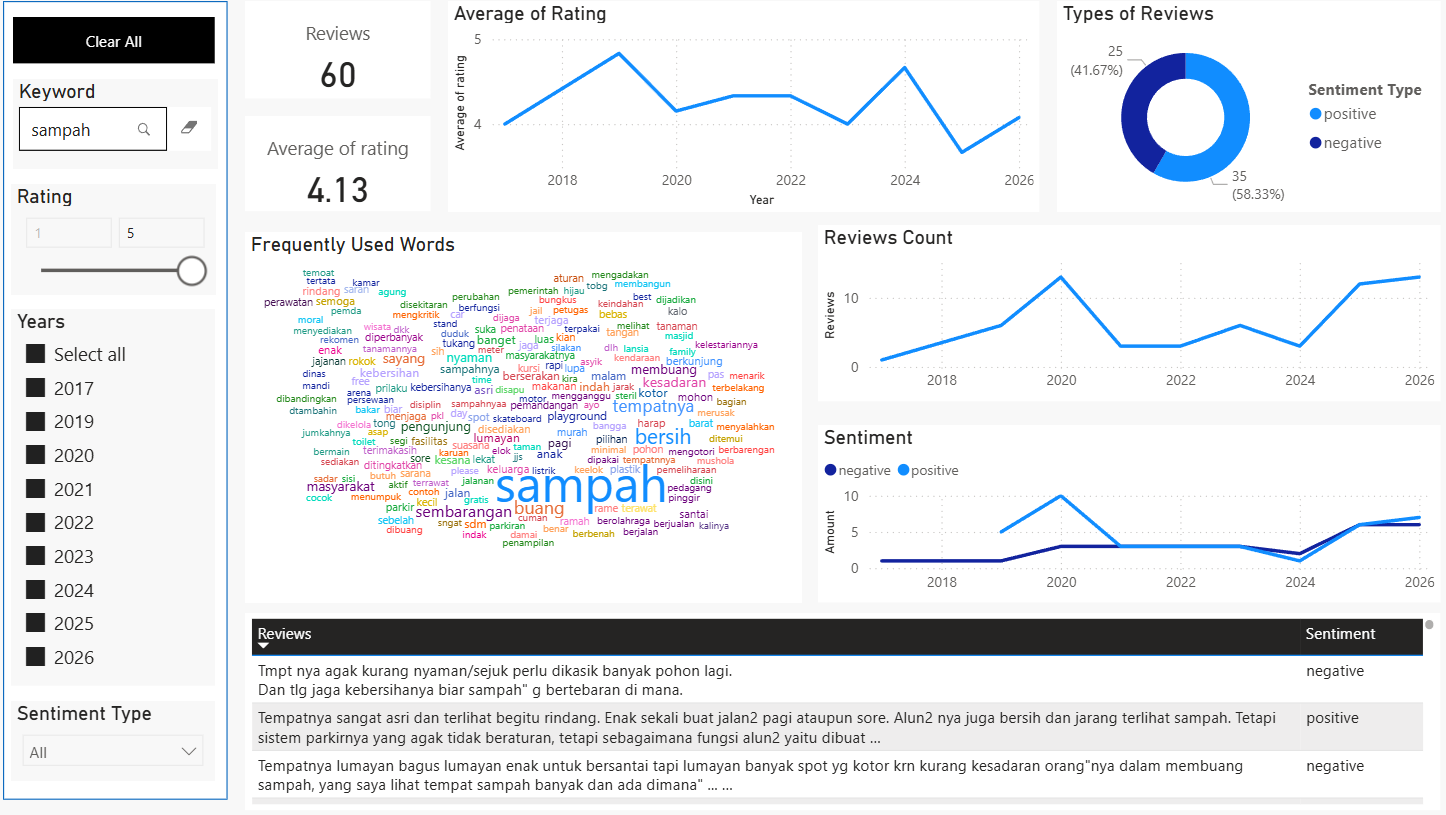

This screenshot's page, from the dashboard's own definition file:
{"tool":"powerbi","page":{"name":"Page 1","canvas":[1280,720],"ordinal":0},"visuals":[{"type":"cardVisual","fields":{"Data":["Avg(Sheet1.rating)"]},"box":[229.7,114.3,160,81.6],"z":0},{"type":"shape","box":[20.7,15.2,193.7,689],"z":1000},{"type":"lineChart","title":"Average of Rating","fields":{"Y":["Avg(Sheet1.rating)"],"Category":["Sheet1.date_parsed.Variation.Date Hierarchy.Year"]},"box":[404.9,15.2,510.5,181.8],"z":2000},{"type":"donutChart","title":"Types of Reviews","fields":{"Category":["Sheet1.sentiment_type"],"Y":["CountNonNull(Sheet1.sentiment_type)"]},"box":[929.5,15.2,330.9,181.8],"z":3000},{"type":"lineChart","title":"Sentiment","fields":{"Category":["Sheet1.date_parsed.Variation.Date Hierarchy.Year"],"Y":["CountNonNull(Sheet1.sentiment_type)"],"Series":["Sheet1.sentiment_type"]},"box":[723.8,381,536.6,153.5],"z":4000},{"type":"lineChart","title":"Reviews Count","fields":{"Category":["Sheet1.date_parsed.Variation.Date Hierarchy.Year"],"Y":["CountNonNull(Sheet1.review_id)"]},"box":[723.8,209,536.6,152.4],"z":5000},{"type":"tableEx","fields":{"Values":["Sheet1.review_text","Sheet1.sentiment_type"]},"box":[229.7,543.1,1030.7,169.8],"z":6000},{"type":"textFilter25A4896A83E0487089E2B90C9AE57C8A","fields":{"field":["Sheet1.review_text"]},"box":[29.4,82.7,176.3,77.3],"z":7000},{"type":"WordCloud1447959067750","title":"Frequently Used Words","fields":{"Values":["CountNonNull(Sheet1.word_cloud)"],"Category":["Sheet1.word_cloud"]},"box":[229.7,214.4,480,320],"z":8000},{"type":"slicer","title":"Rating","fields":{"Values":["Sheet1.rating"]},"box":[27.2,173.1,176.3,94.7],"z":9000},{"type":"cardVisual","fields":{"Data":["CountNonNull(Sheet1.review_id)"]},"box":[229.7,15.2,160,83.8],"z":10000},{"type":"slicer","title":"Years","fields":{"Values":["Sheet1.year"]},"box":[27.2,280.8,176.3,325.4],"z":11000},{"type":"slicer","title":"Sentiment Type","fields":{"Values":["Sheet1.sentiment_type"]},"box":[27.2,619.3,176.3,68.6],"z":12000},{"type":"actionButton","box":[29.4,29.4,174.1,40.3],"z":13000}]}

Visuals, with their boxes in screenshot pixels (x1, y1, x2, y2), scaled from the page's 1280x720 canvas onto the 1446x815 screenshot:
cardVisual - Avg(Sheet1.rating): {"left": 259, "top": 129, "right": 440, "bottom": 222}
shape: {"left": 23, "top": 17, "right": 242, "bottom": 797}
"Average of Rating" lineChart: {"left": 457, "top": 17, "right": 1034, "bottom": 223}
"Types of Reviews" donutChart: {"left": 1050, "top": 17, "right": 1424, "bottom": 223}
"Sentiment" lineChart: {"left": 818, "top": 431, "right": 1424, "bottom": 605}
"Reviews Count" lineChart: {"left": 818, "top": 237, "right": 1424, "bottom": 409}
tableEx - Sheet1.review_text x Sheet1.sentiment_type: {"left": 259, "top": 615, "right": 1424, "bottom": 807}
textFilter25A4896A83E0487089E2B90C9AE57C8A - Sheet1.review_text: {"left": 33, "top": 94, "right": 232, "bottom": 181}
"Frequently Used Words" WordCloud1447959067750: {"left": 259, "top": 243, "right": 802, "bottom": 605}
"Rating" slicer: {"left": 31, "top": 196, "right": 230, "bottom": 303}
cardVisual - CountNonNull(Sheet1.review_id): {"left": 259, "top": 17, "right": 440, "bottom": 112}
"Years" slicer: {"left": 31, "top": 318, "right": 230, "bottom": 686}
"Sentiment Type" slicer: {"left": 31, "top": 701, "right": 230, "bottom": 779}
actionButton: {"left": 33, "top": 33, "right": 230, "bottom": 79}
